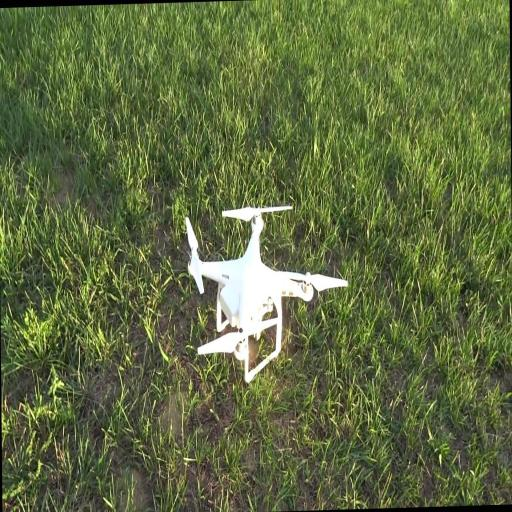drone: (183, 202, 349, 387)
